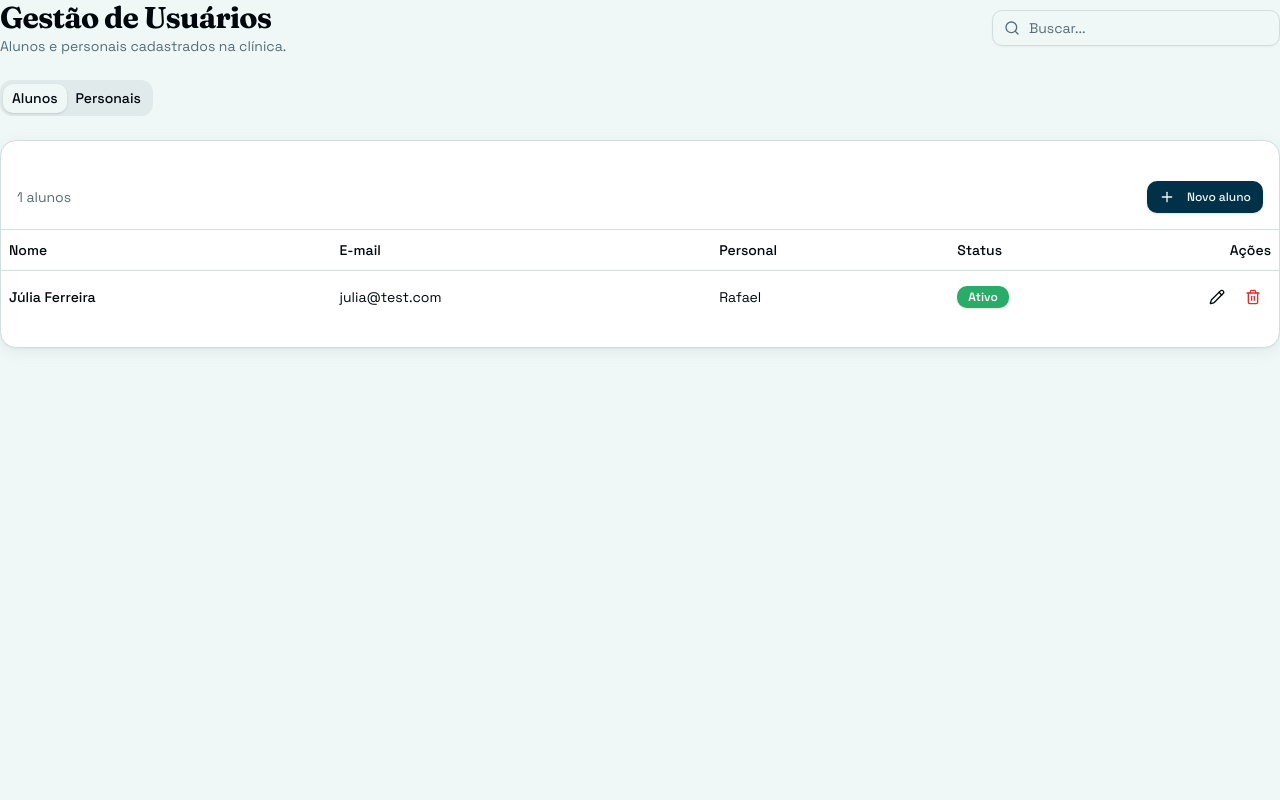
it: UsuariosPage — AlunosTab › campo Treinos contratados por ciclo (feature flag) › shows the field in Editar aluno when the attendanceCycles flag is on
Expected: the text "Júlia Ferreira" is shown, x1=9 y1=288 x2=96 y2=306
Click the 2nd button at (1217, 296), box x1=1199 y1=278 x2=1235 y2=314
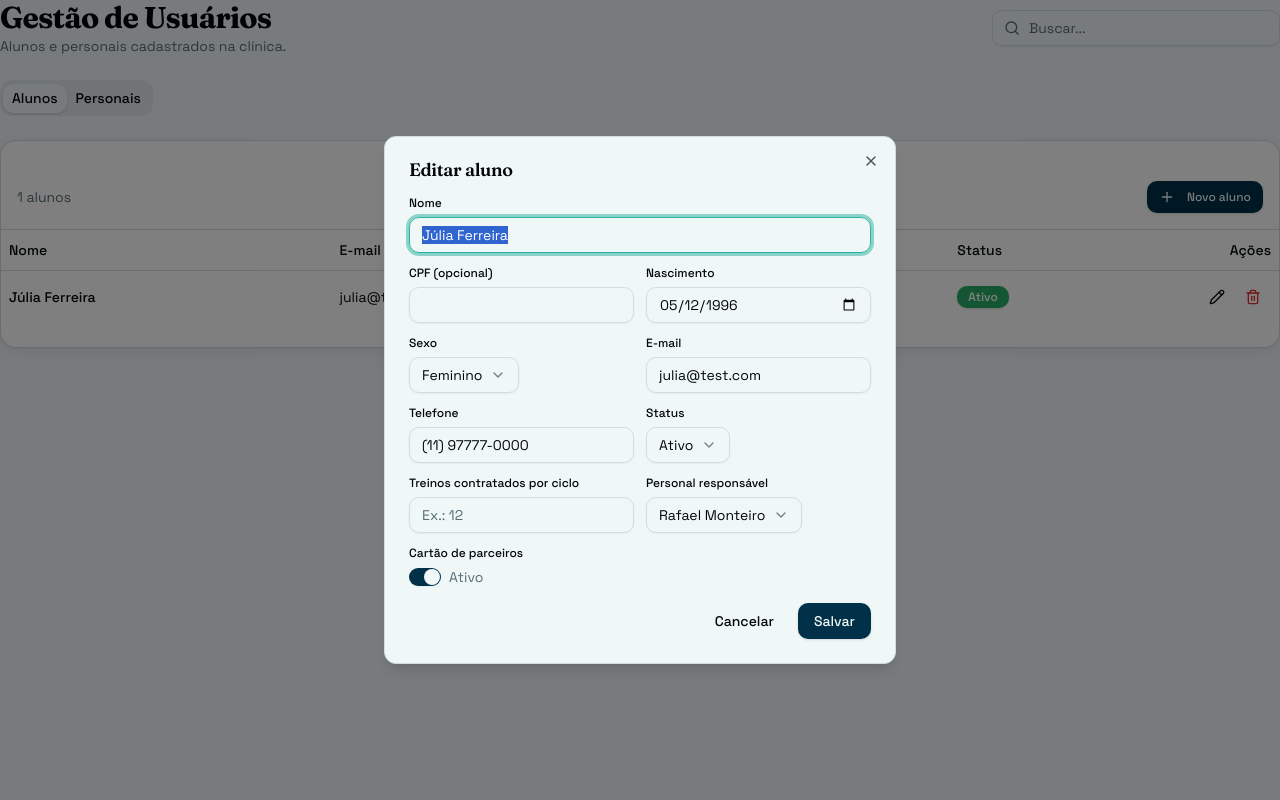
Expected: the text "Treinos contratados por ciclo" is shown, x1=409 y1=475 x2=579 y2=491
